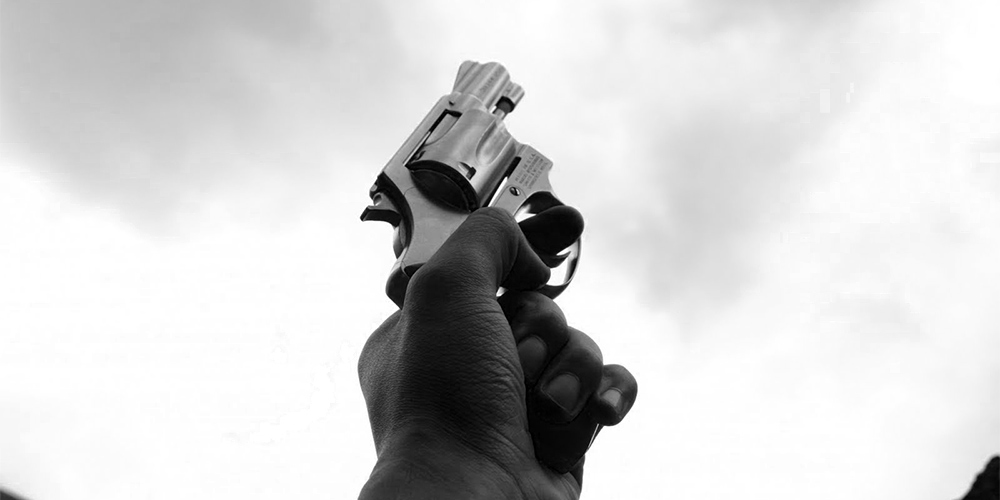gun: (358, 57, 610, 477)
